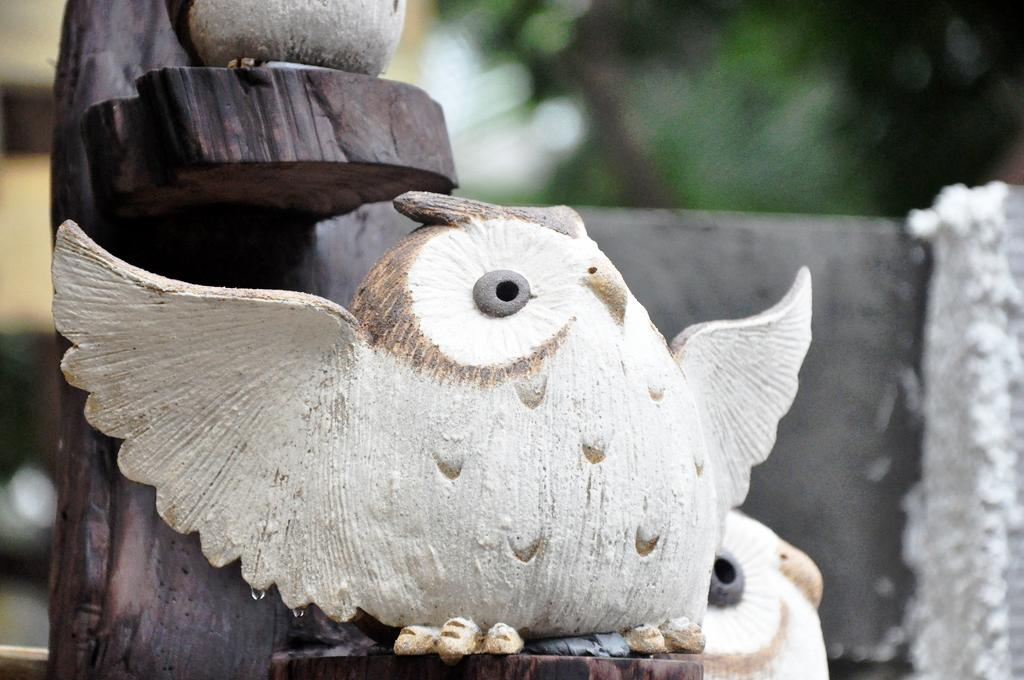Owl: (46, 184, 820, 666), (697, 512, 833, 680)
